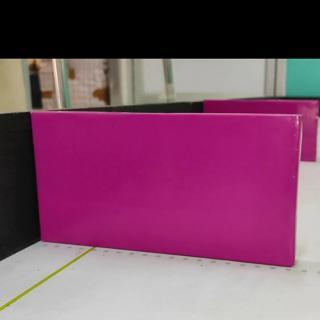xparking: (41, 111, 300, 265)
